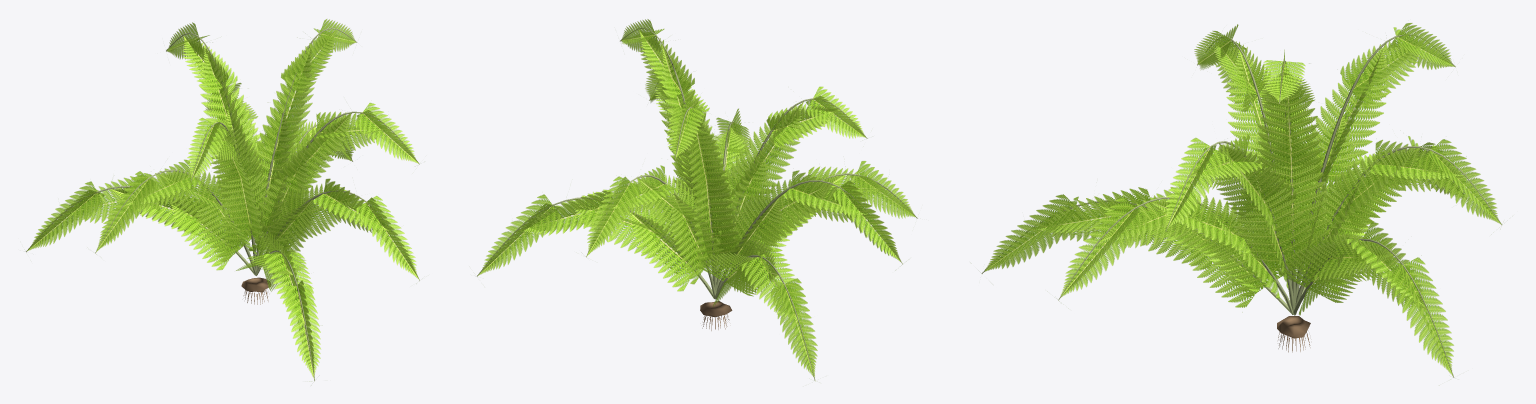
Rendered from lady-fern-v1.glb.
3 views of the same model, side by side, from view 1: azimuth 30°, elevation 25°; view 2: azimuth 150°, elevation 25°; view 3: azimuth 270°, elevation 25° (orthographic). The views are drawn at different scales.
Visible parts, largest first — view 1: frond-lace-1, frond-1, crown; view 2: frond-lace-1, frond-1, crown; view 3: frond-lace-1, frond-1, crown.
Boxes of the visible parts, x1,y1,x2,y2 form: frond-lace-1: [27, 19, 418, 379]; frond-1: [26, 28, 419, 380]; crown: [241, 277, 271, 304]; frond-lace-1: [478, 19, 916, 377]; frond-1: [477, 28, 917, 380]; crown: [700, 301, 732, 330]; frond-lace-1: [984, 23, 1500, 376]; frond-1: [981, 34, 1502, 377]; crown: [1277, 316, 1310, 352].
Bounding box in the file's own units: 0.6798 × 0.4955 × 0.7305.
Materials: 3 (1 with a texture image).
